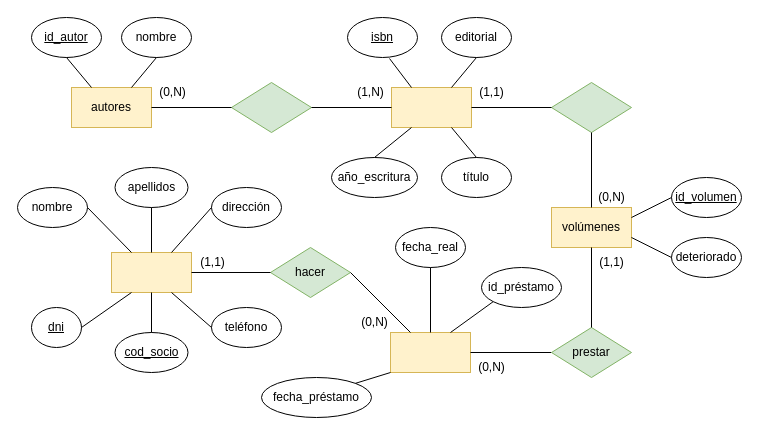
The diagram is 759 pixels wide and 435 high, and some of its shapes have lost their labels. The shapes that lost their labels are listed below. From the top down, each one's centre as x and y in pixels, then its label:
(271,107): escribir
(431,107): libros
(591,107): tener
(151,272): personas
(430,352): préstamos
